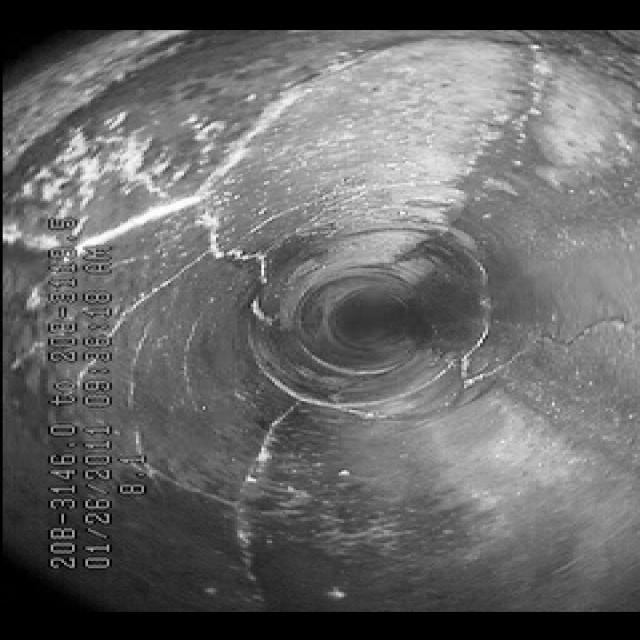Fracture: (130, 53, 344, 263), (462, 278, 638, 382)
